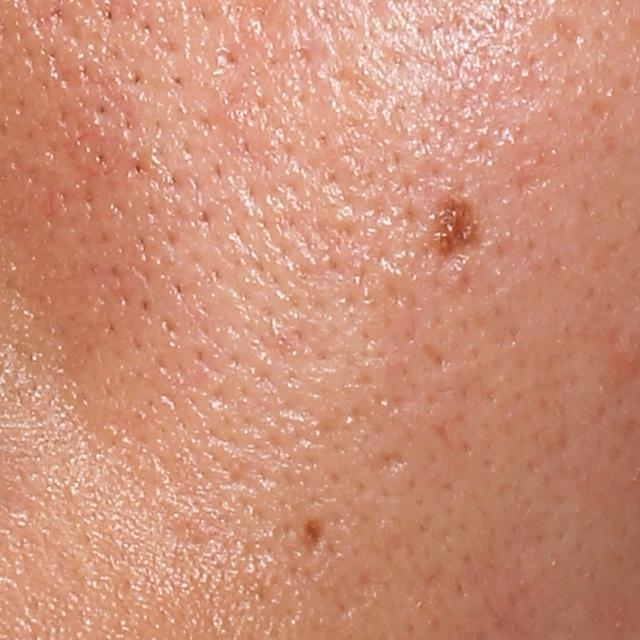atrophic_scar: (550, 18, 586, 51), (373, 449, 406, 476)
nevus: (426, 184, 485, 266), (304, 512, 326, 557)
